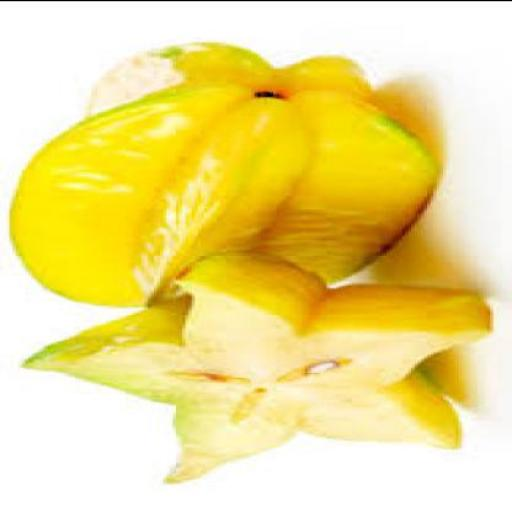biodegradable: (6, 43, 440, 307), (19, 253, 487, 484)
